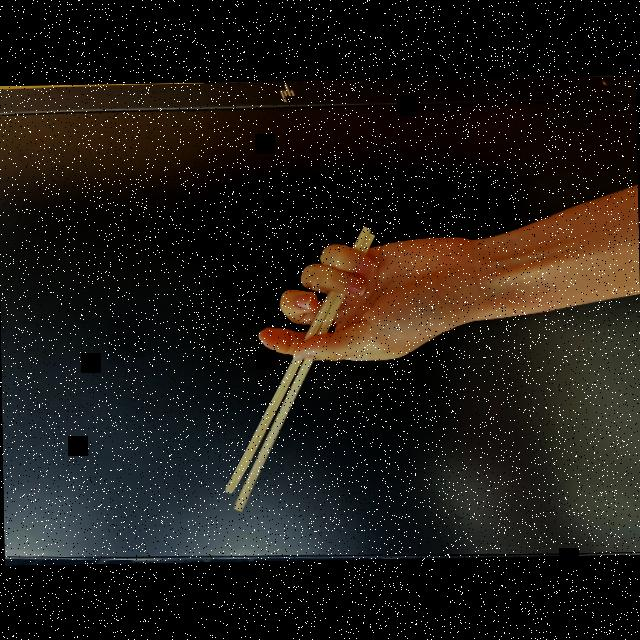stick: (223, 227, 459, 510)
